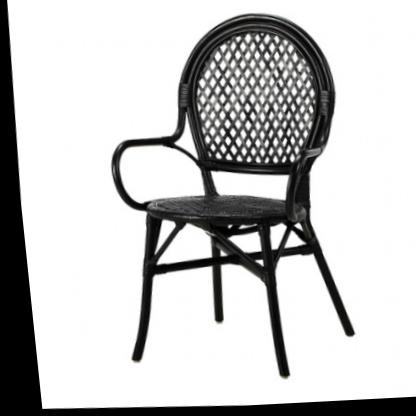Chair: (83, 2, 368, 394)
